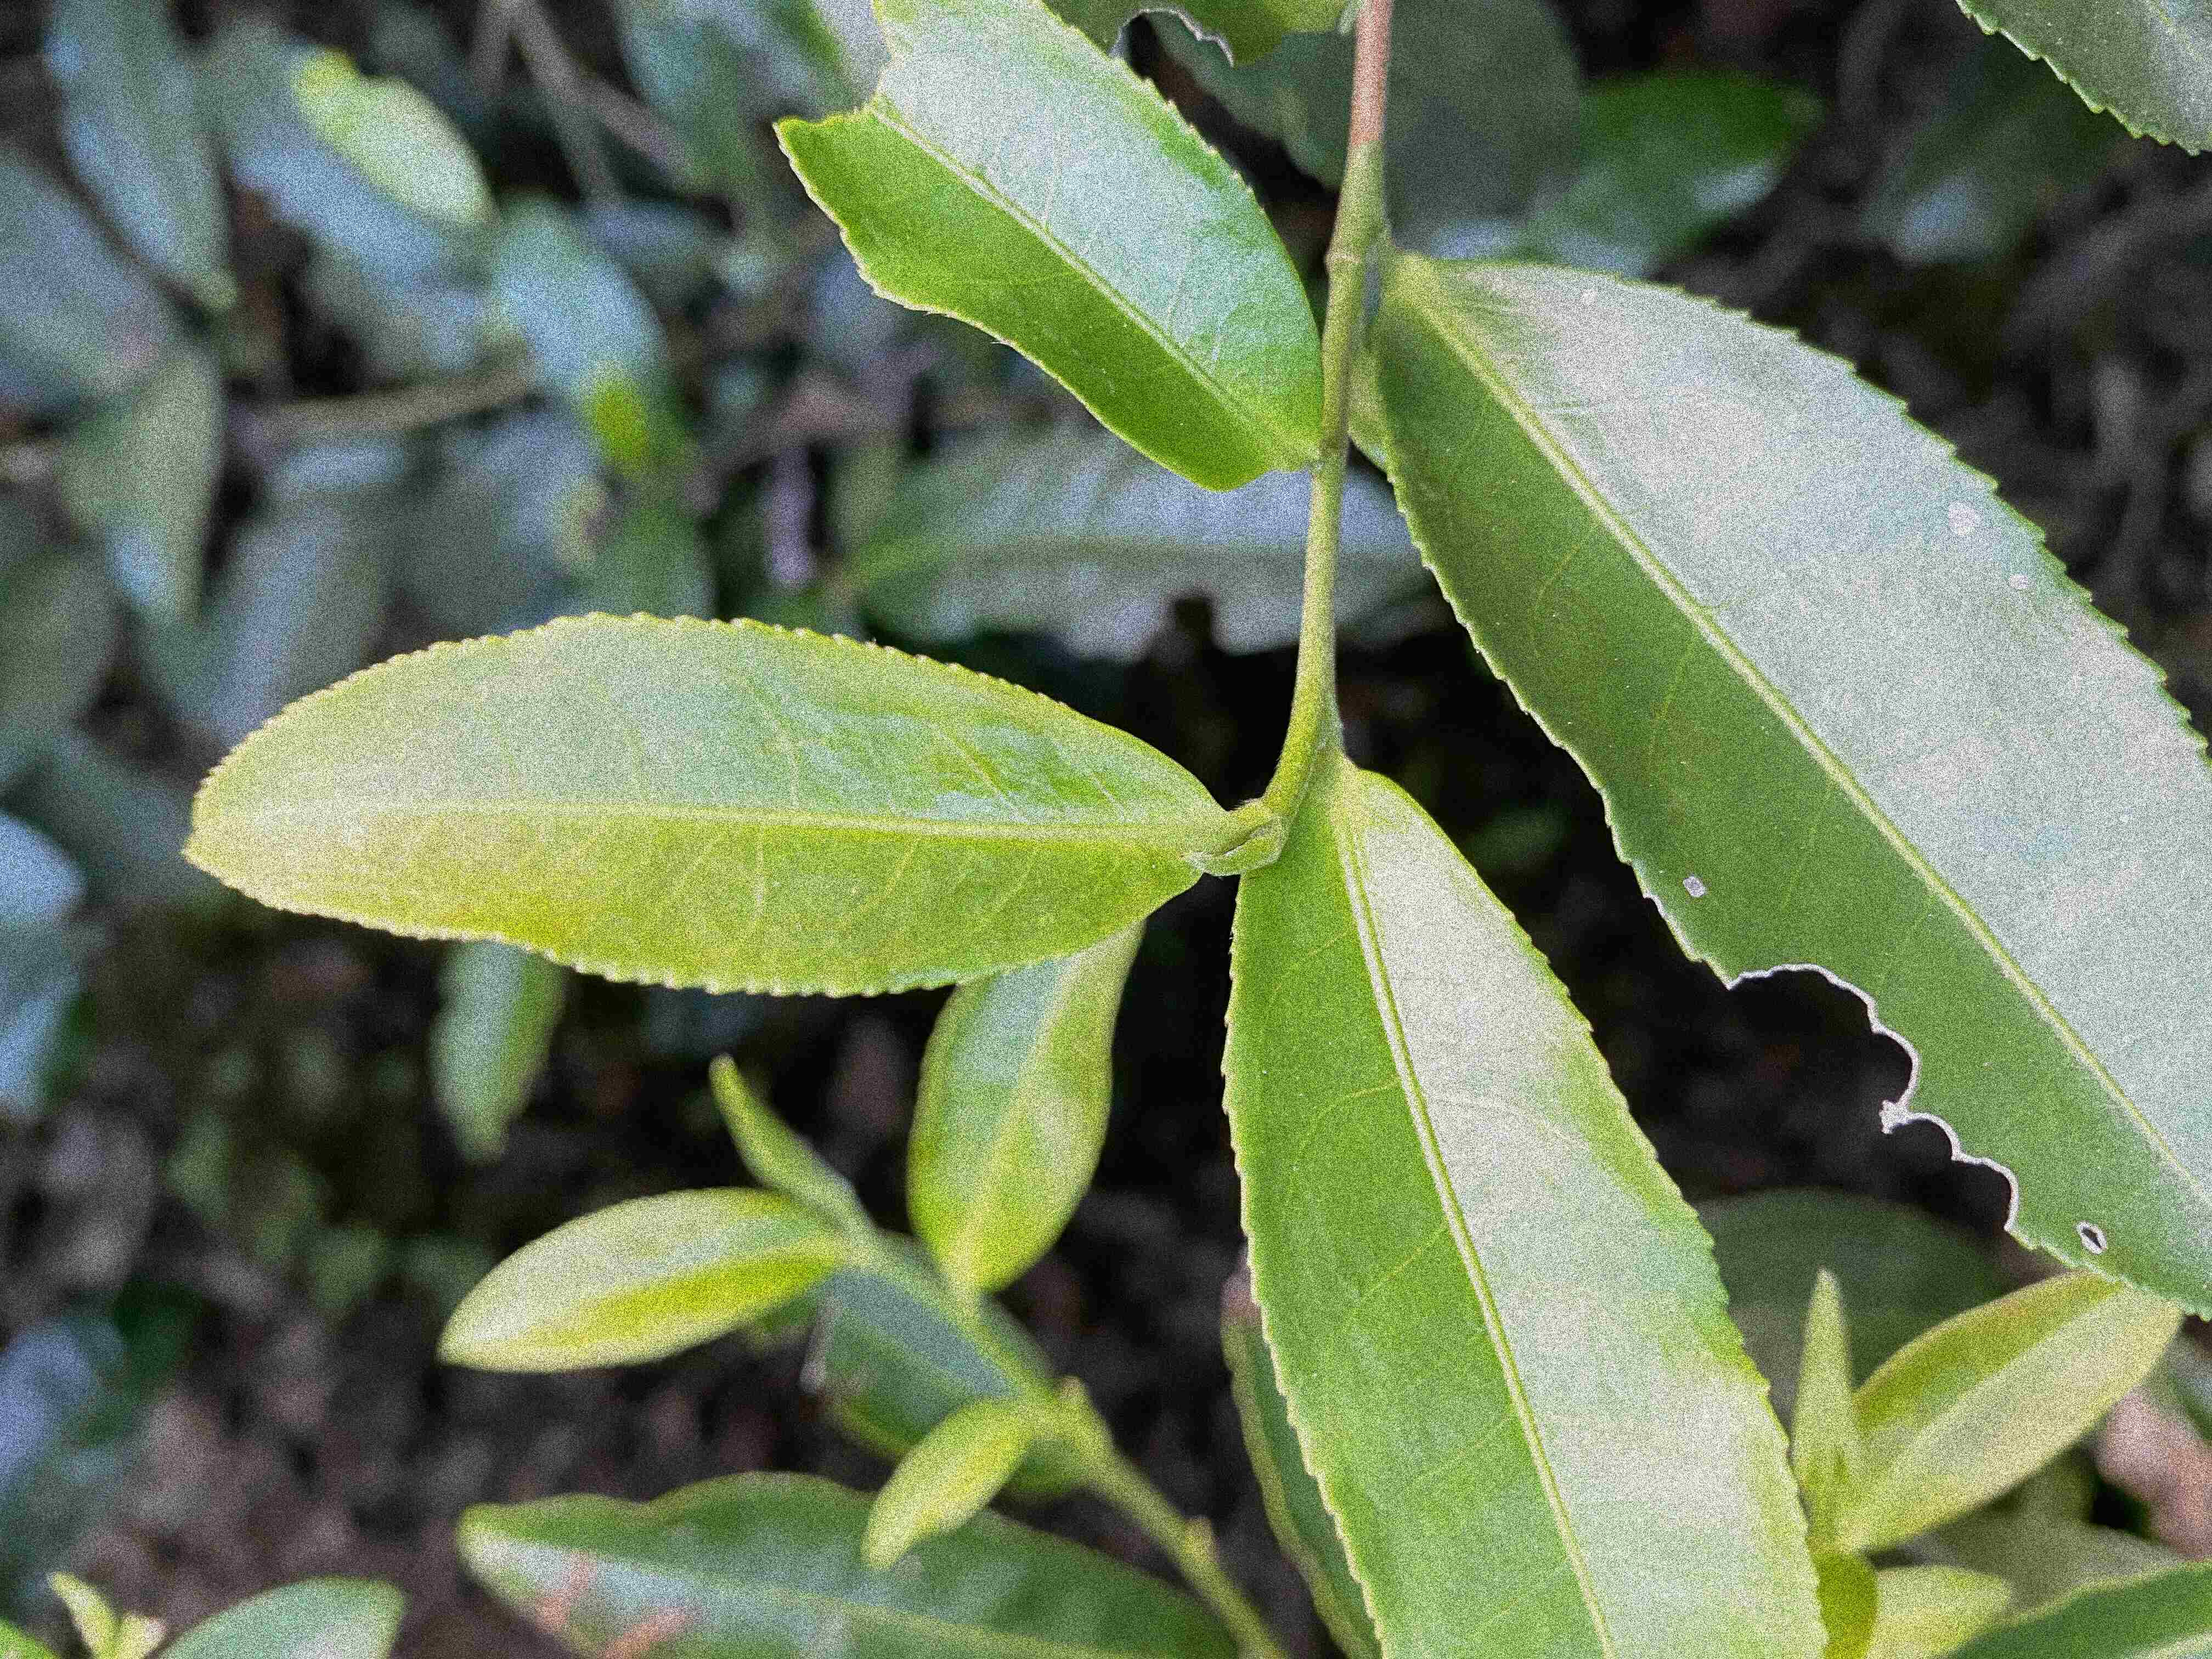chihuo_high: (1376, 251, 2209, 1323)
chihuo_low: (770, 0, 1329, 493)
healthy: (1223, 749, 1827, 1659), (179, 605, 1221, 1002)
